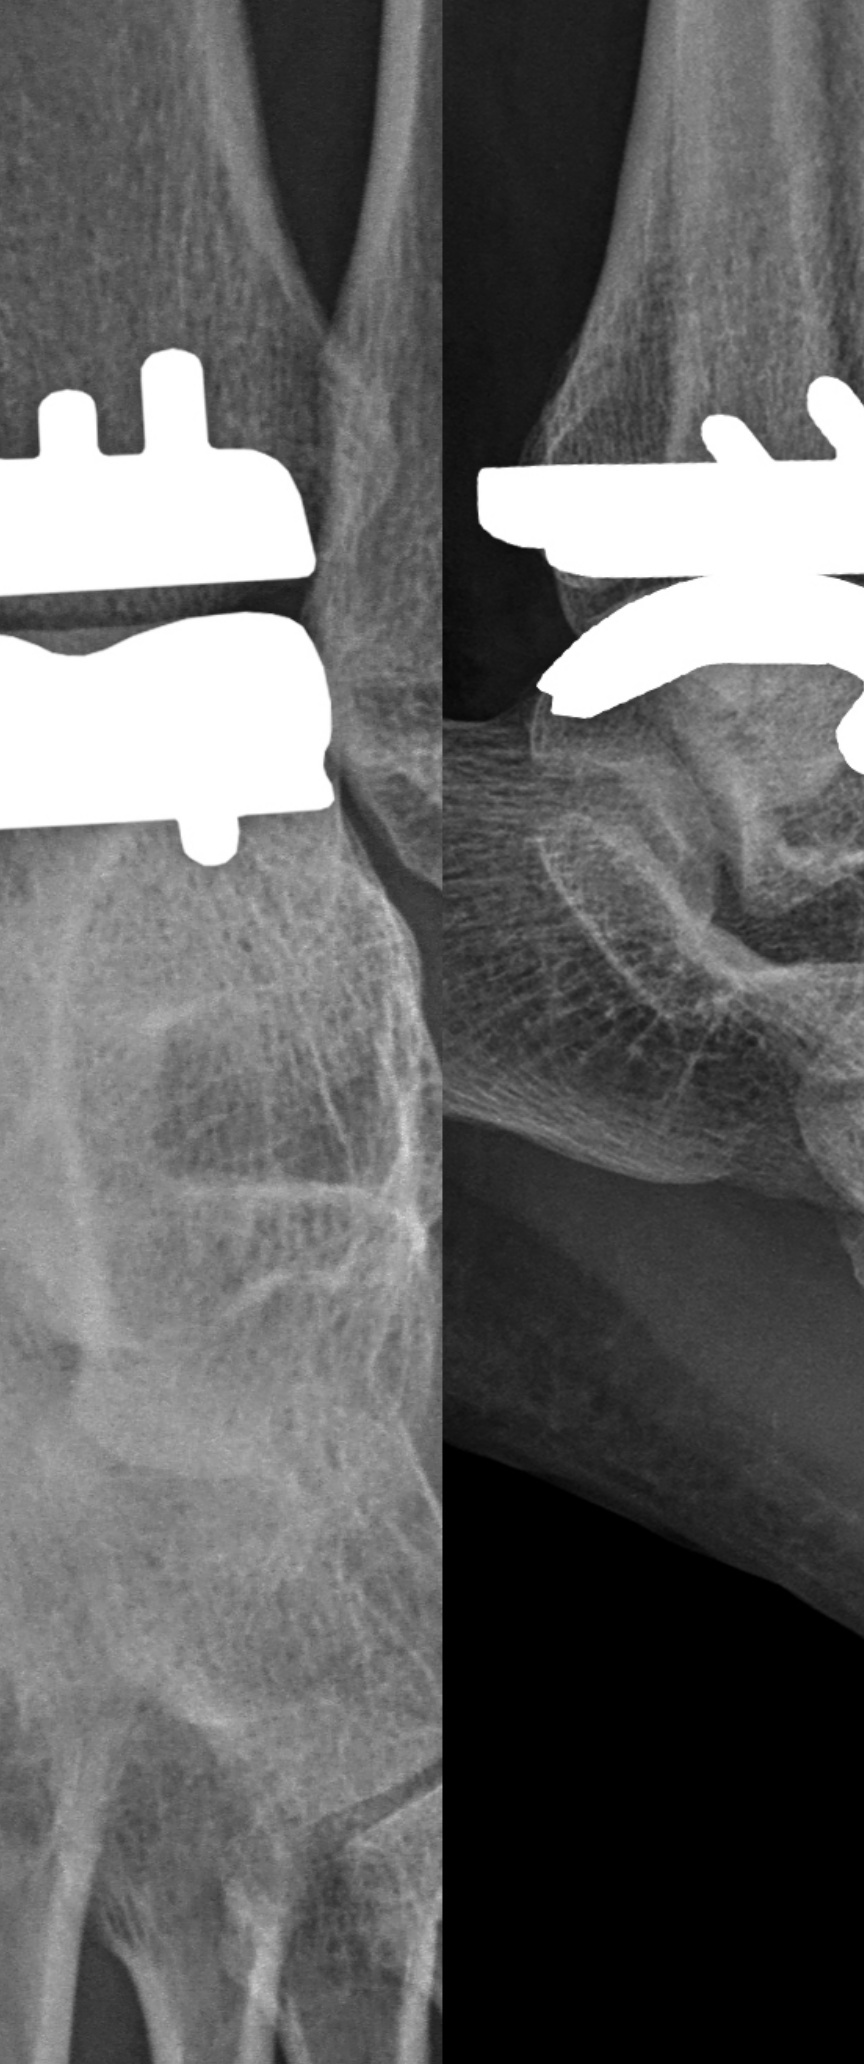Ankle - Infinity - Wright: (1, 334, 342, 874), (454, 374, 864, 785)
